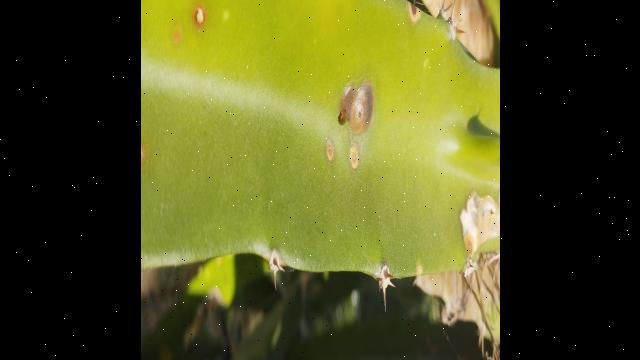stemcanker: (189, 2, 212, 29), (347, 142, 363, 175), (166, 24, 188, 48), (324, 136, 337, 167), (217, 6, 234, 25)
